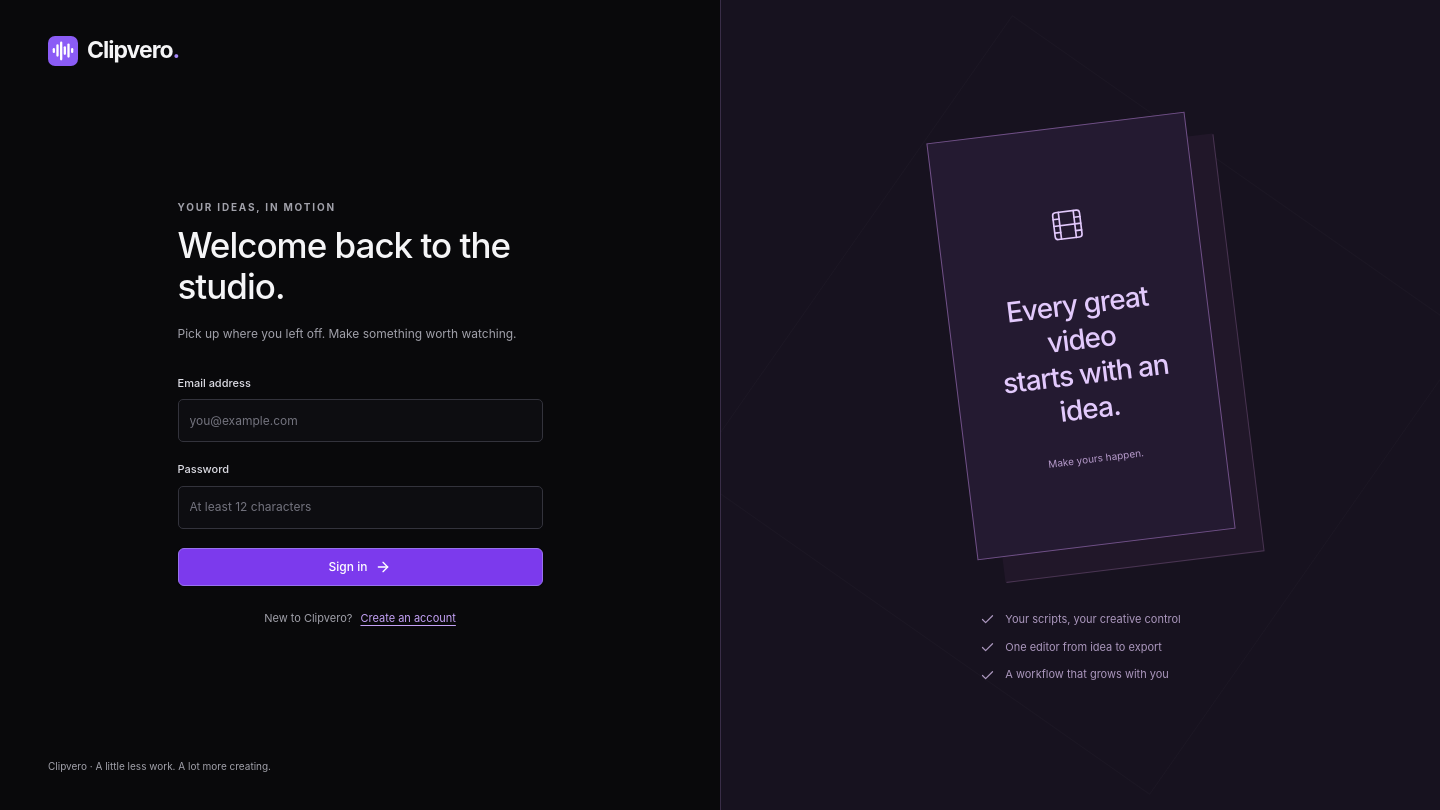
Test: a rejected sign-in preserves input and shows an actionable server error
Type "creator@example.com" into the field labelled "Email address". click: [360, 421]
box: [178, 399, 542, 442]
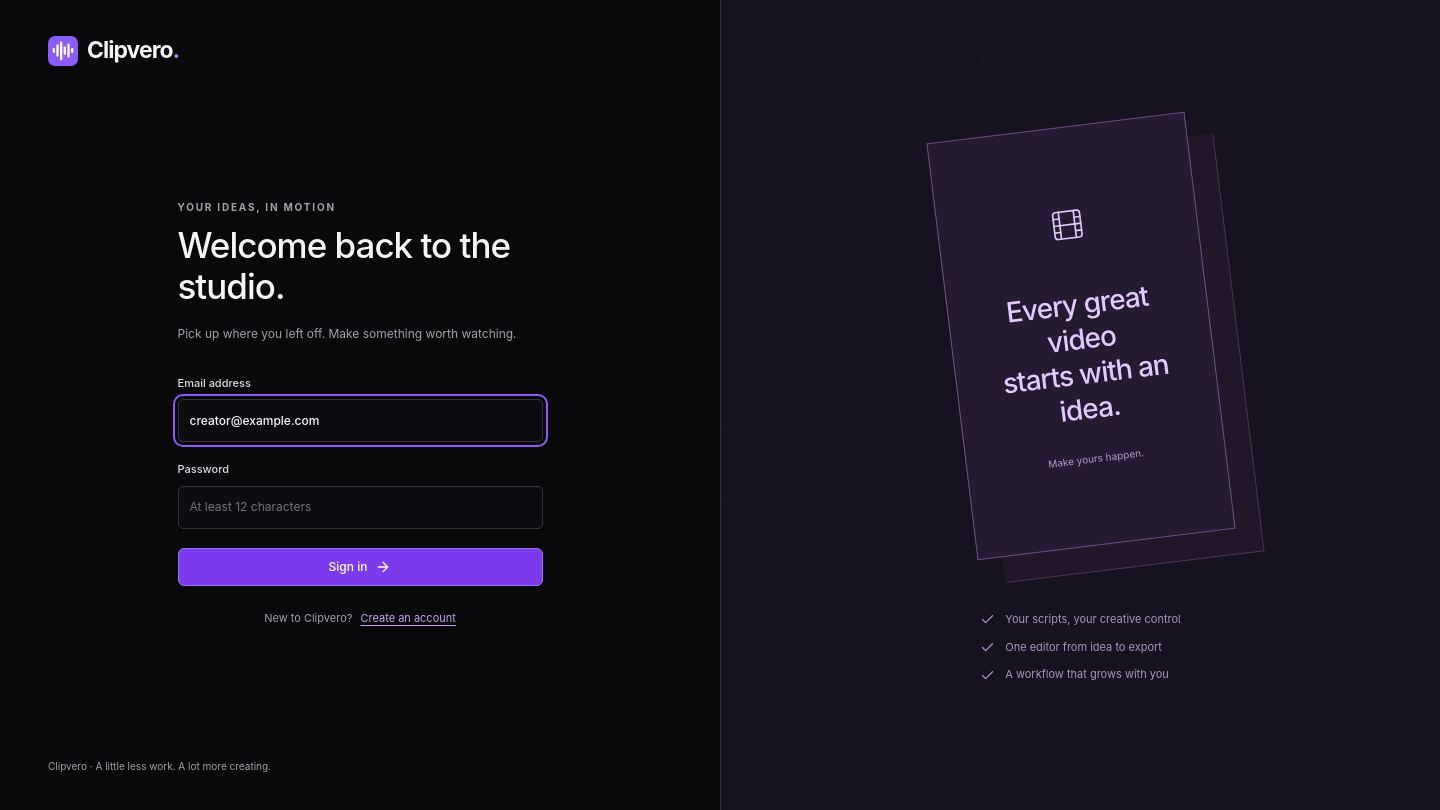
Type "a secure password" into the password field labelled "Password". click: [360, 507]
box: [178, 486, 542, 529]
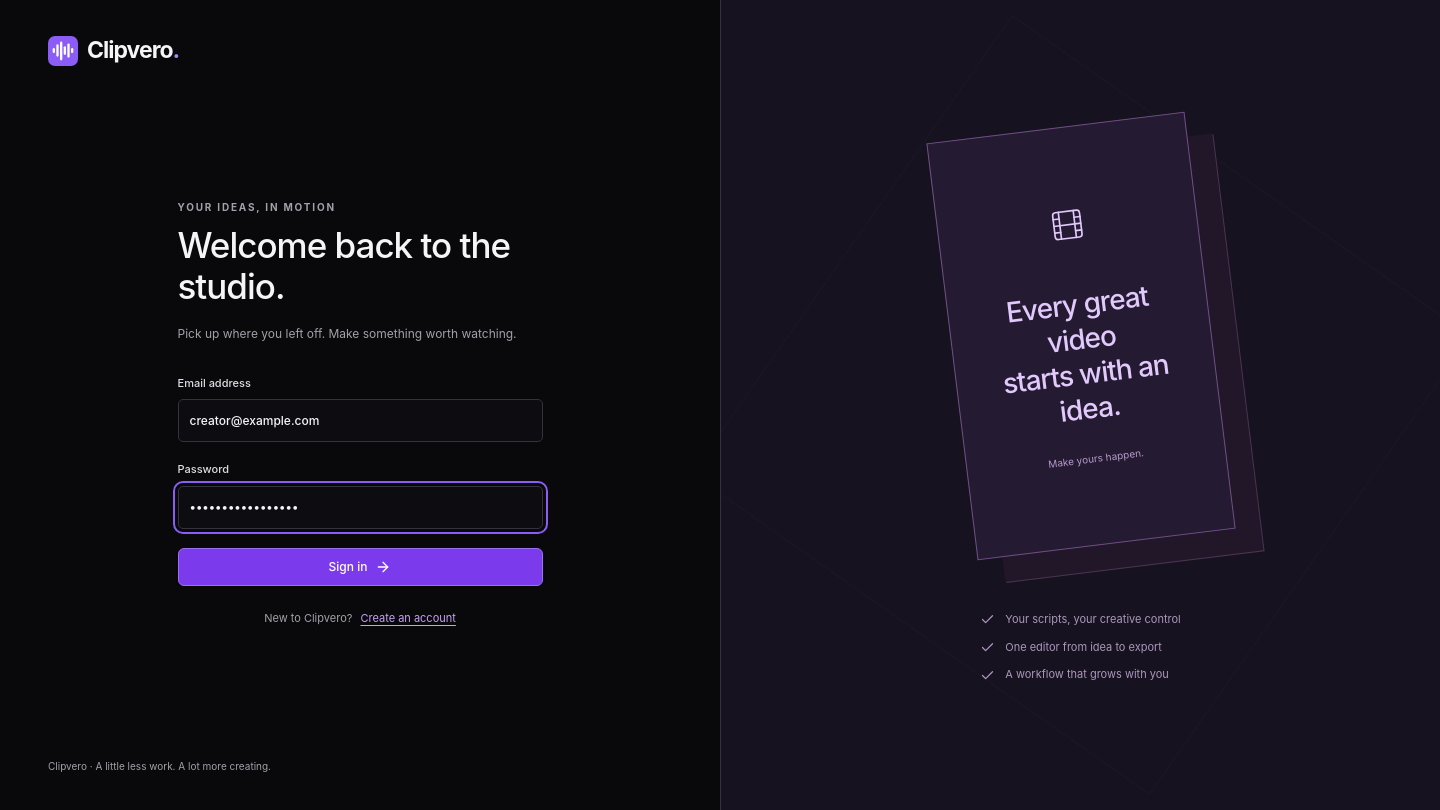
Click the button "Sign in". click: [360, 567]
box: [178, 548, 542, 586]
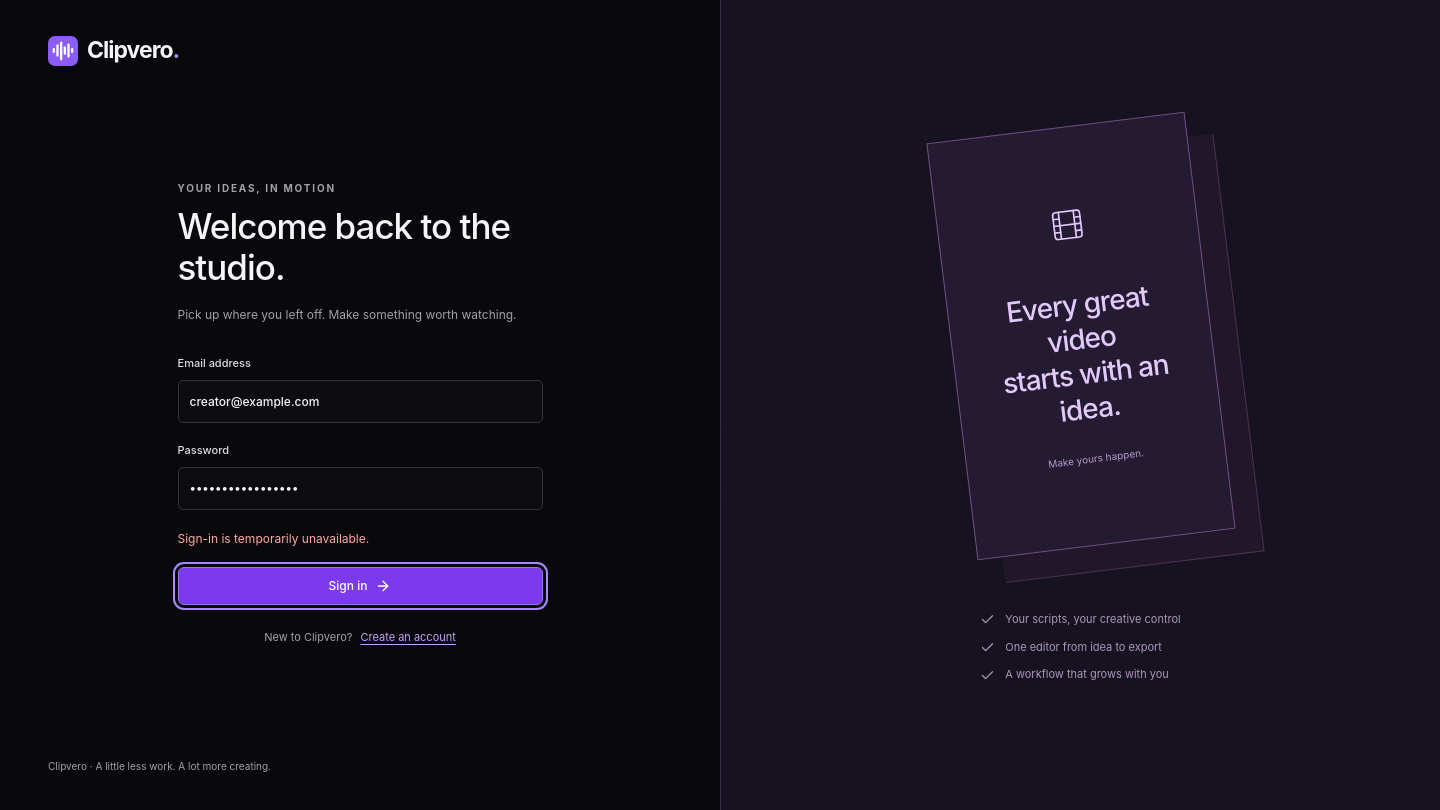
Expected: the message reads "Sign-in is temporarily unavailable.", [178, 531, 369, 546]
